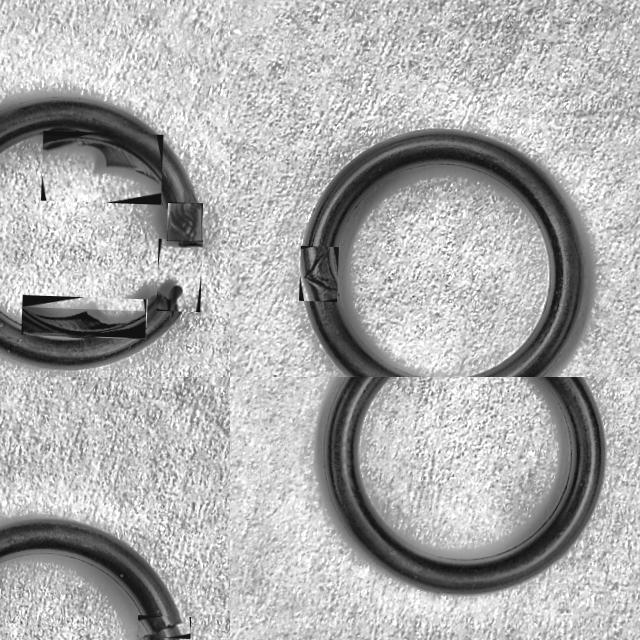切割缺陷: (299, 247, 337, 297), (167, 203, 201, 240)
挤压缺陷: (156, 243, 202, 311), (139, 616, 189, 637)
裂纹: (42, 137, 161, 187), (22, 307, 146, 334)
